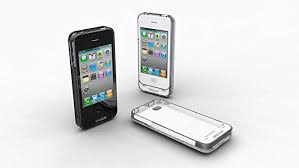iphone4: (68, 25, 118, 132), (138, 12, 178, 99)
